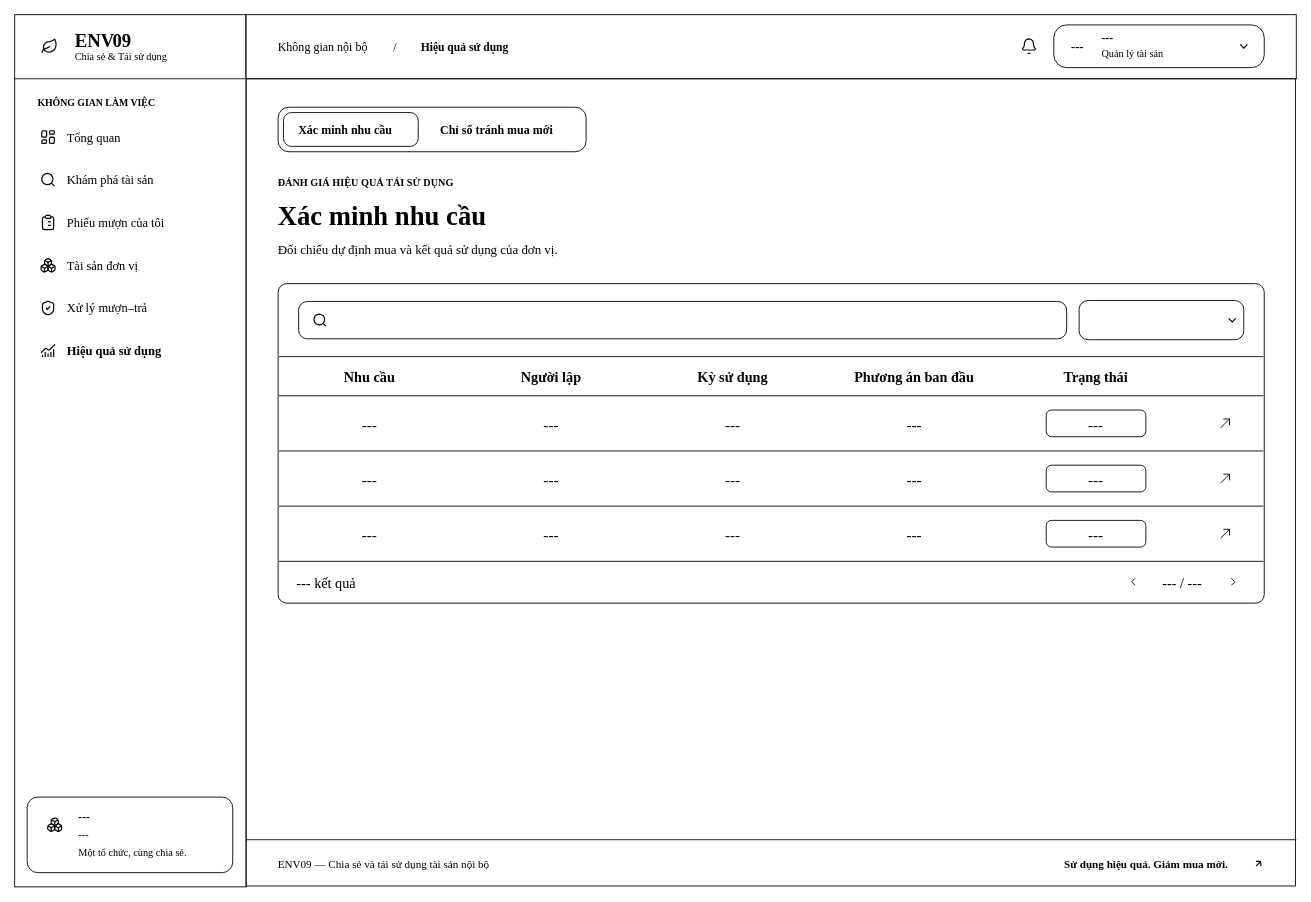
Image size: 1311x902. Some labels were removed from this diagram. Each missing label, with the centre of its shape:
"Mọi trạng thái" belongs at point 1161,320.
"Tìm theo mục đích sử dụng…" belongs at point 698,320.
